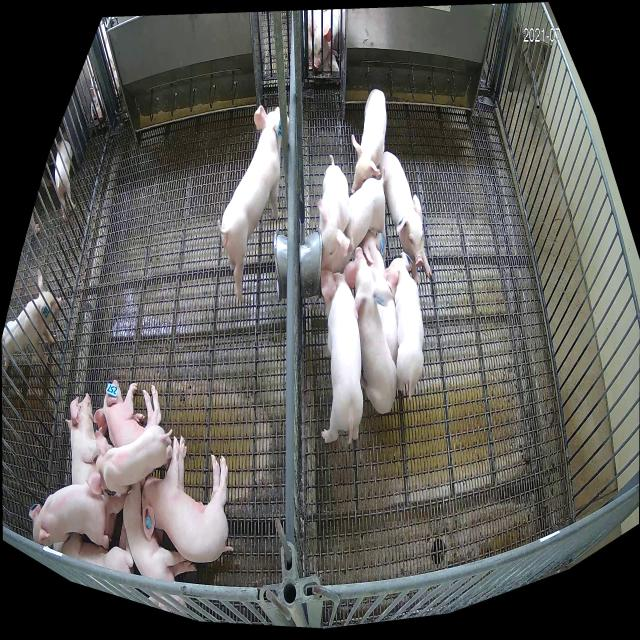pig: (217, 104, 281, 303), (142, 435, 233, 564), (123, 480, 198, 616), (66, 392, 124, 540), (320, 260, 363, 446), (376, 152, 432, 285), (321, 166, 386, 273), (355, 248, 396, 415), (383, 250, 424, 398), (86, 425, 172, 494), (30, 484, 110, 548), (361, 231, 398, 366), (93, 380, 162, 445), (53, 522, 136, 574), (351, 89, 387, 193), (318, 155, 350, 267)
